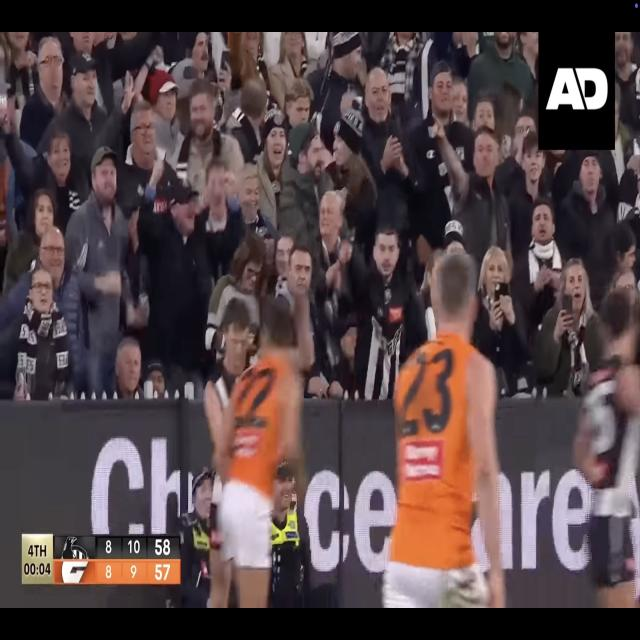crowd: (0, 31, 640, 400)
